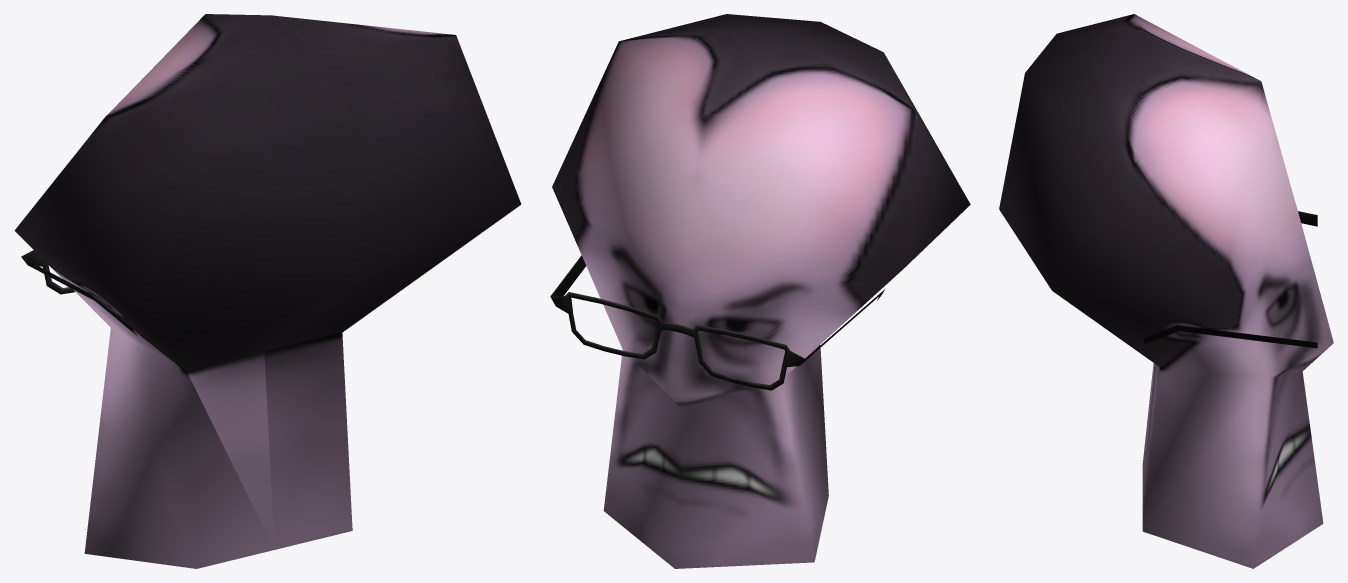
The model's file is brainiac_head.glb.
The picture shows the model from 3 angles, left to right: view 1: azimuth 30°, elevation 25°; view 2: azimuth 150°, elevation 25°; view 3: azimuth 270°, elevation 25°; orthographic projection. The views are drawn at different scales.
Parts seen in each view (by area): view 1: brainiac; view 2: brainiac; view 3: brainiac.
Part boxes in pixels (x1,y1,x2,y2): brainiac: (14,14,521,568); brainiac: (550,14,970,568); brainiac: (999,14,1333,568).
Size of the model in its own units: 1.8 by 2.3 by 1.45.
2 materials, 2 textured.
